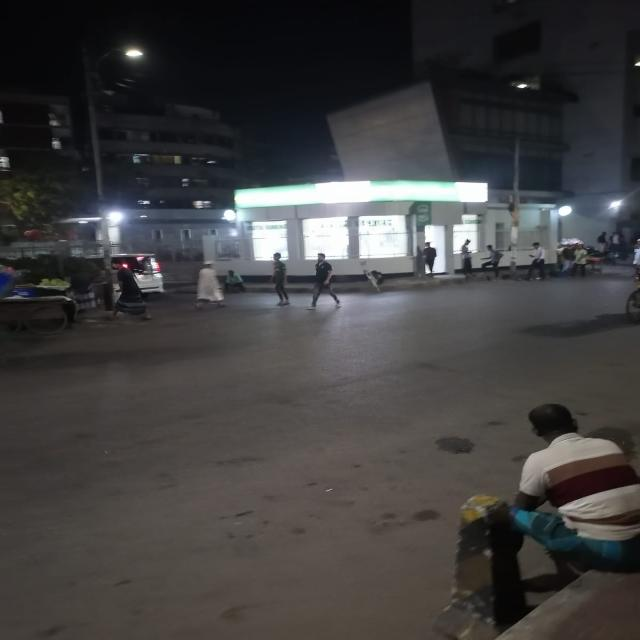person: (307, 253, 341, 310)
